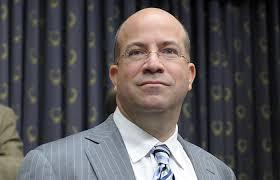normalEye: (123, 39, 182, 61)
normalMouth: (132, 77, 172, 88)
